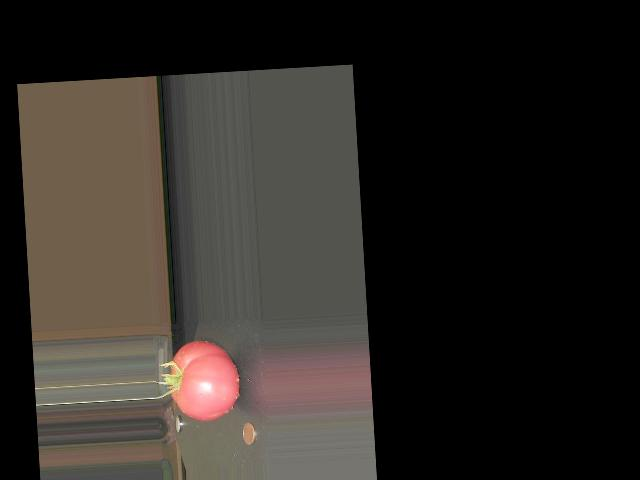tomato: (168, 338, 241, 422)
